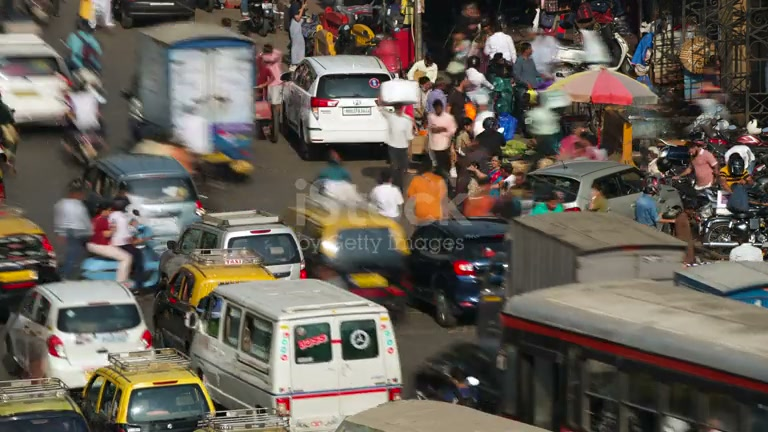bus: (493, 263, 767, 428)
car: (188, 276, 406, 427), (2, 278, 155, 395), (152, 249, 280, 354), (277, 54, 396, 161), (79, 349, 220, 431), (406, 217, 510, 328), (83, 151, 207, 241), (166, 212, 309, 281), (527, 159, 646, 220), (0, 35, 77, 129), (0, 209, 61, 322), (0, 377, 90, 430), (111, 2, 196, 29)
motorcycle: (286, 175, 410, 315)
pedestrian: (375, 77, 415, 193), (53, 179, 93, 279), (106, 195, 146, 285), (419, 99, 457, 187), (368, 169, 404, 220), (634, 182, 660, 229)
truck: (120, 21, 260, 179)
